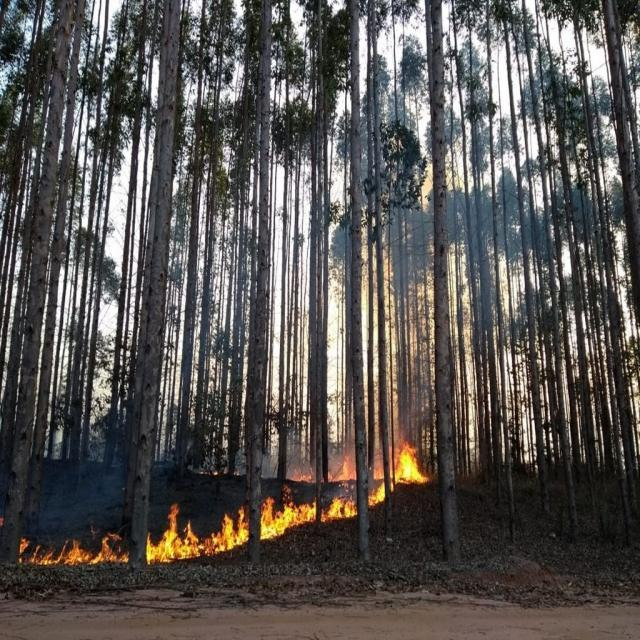Fire: (12, 438, 434, 572)
